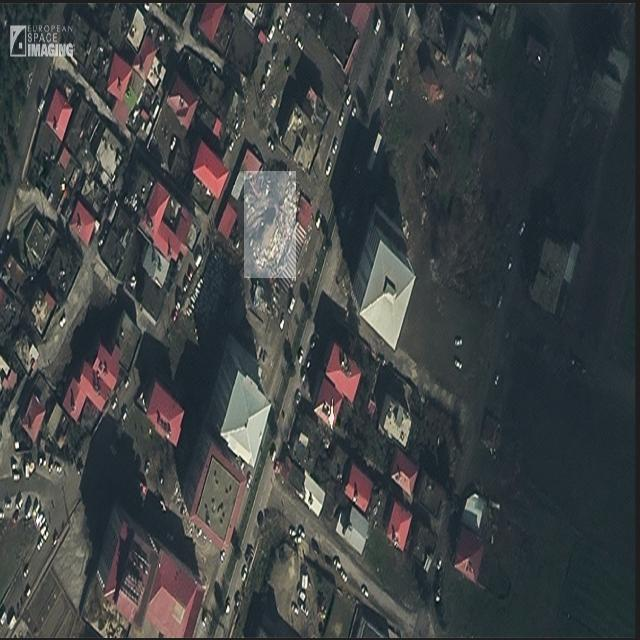Rubble: (244, 171, 296, 278)
